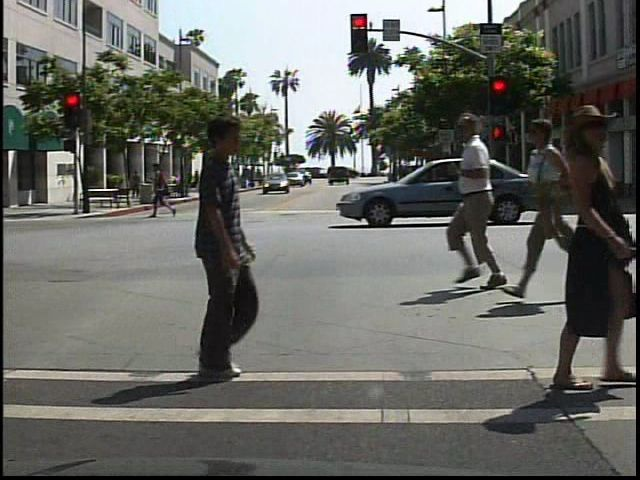person: (159, 110, 271, 382), (528, 101, 627, 394), (521, 115, 605, 303), (448, 112, 526, 297), (148, 158, 182, 220), (131, 167, 145, 200)
